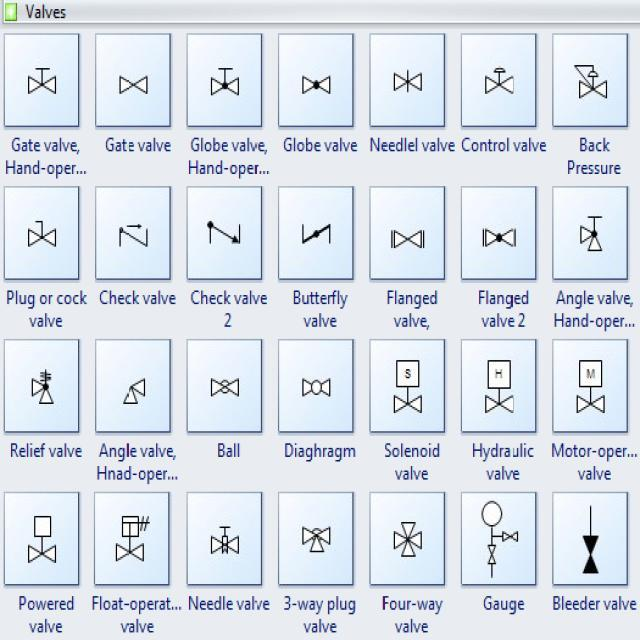3 Way Gate Valve: (294, 517, 332, 561)
4 Way Gate Valve: (382, 516, 430, 566)
Angle Valve: (111, 364, 156, 420)
BackPressure Regulator: (562, 50, 612, 109)
Ball Valve: (287, 362, 342, 411), (201, 375, 245, 403)
Bleeder Valve: (574, 502, 609, 576)
Butterfly Valve: (282, 214, 345, 256)
Check Valve: (112, 210, 158, 250), (200, 209, 243, 251)
Cock Valve: (18, 210, 60, 254)
Flanged: (384, 222, 427, 256)
Flanged Globe: (478, 214, 522, 258)
Float Operated Valve: (107, 501, 158, 572)
Gate Valve: (115, 71, 154, 100)
Gauge: (468, 498, 522, 582)
Globe Valve: (294, 66, 338, 98)
Hand Operated Angle Valve: (572, 198, 609, 256)
Hand Operated Gate Valve: (13, 42, 72, 114)
Hand Operated Globe Valve: (203, 50, 243, 98)
Hydraulic Operated Gate Valve: (472, 350, 522, 418)
Motor Operated Gate Valve: (570, 352, 614, 420)
Needle Valve: (196, 516, 248, 566), (379, 60, 428, 94)
Pneumatic-Diaphragm Gate Valve: (478, 56, 522, 100)
Powered Gate Valve: (18, 511, 64, 576)
Relief Valve: (20, 360, 60, 414)
Solenoid Operated Gate Valve: (384, 350, 429, 428)
